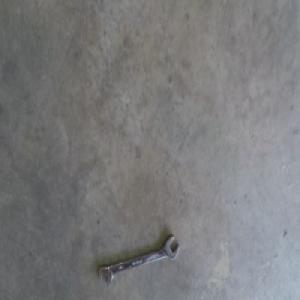Wrench: (98, 234, 178, 288)
